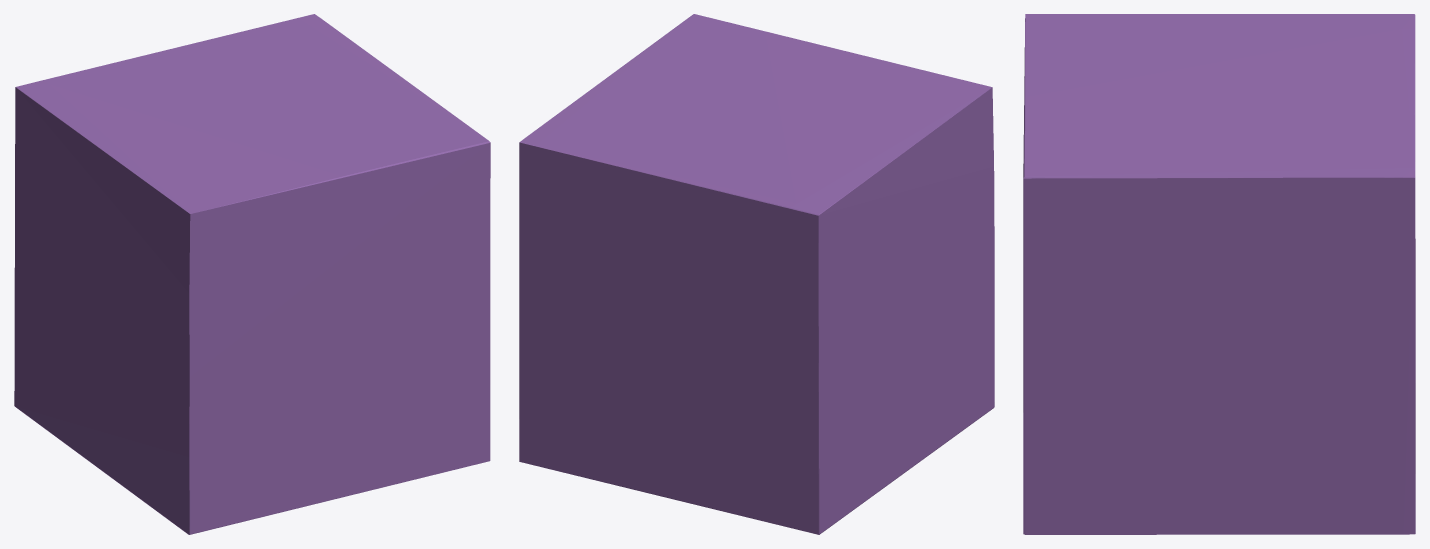
Rendered from box_corrugated_white_a12.glb.
3 views of the same model, side by side, from view 1: azimuth 30°, elevation 25°; view 2: azimuth 150°, elevation 25°; view 3: azimuth 270°, elevation 25° (orthographic). The views are drawn at different scales.
Parts seen in each view (by area): view 1: geometry_0; view 2: geometry_0; view 3: geometry_0.
Boxes of the visible parts, bbox=[...] form: geometry_0: bbox=[14, 14, 490, 534]; geometry_0: bbox=[519, 14, 994, 534]; geometry_0: bbox=[1023, 14, 1415, 534].
Size of the model in its own units: 0.4712 by 0.4796 by 0.4755.
